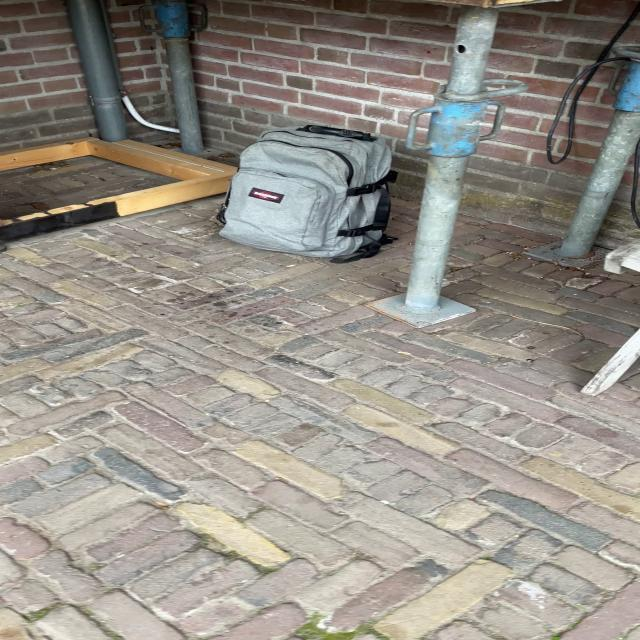backpack: (210, 118, 405, 263)
